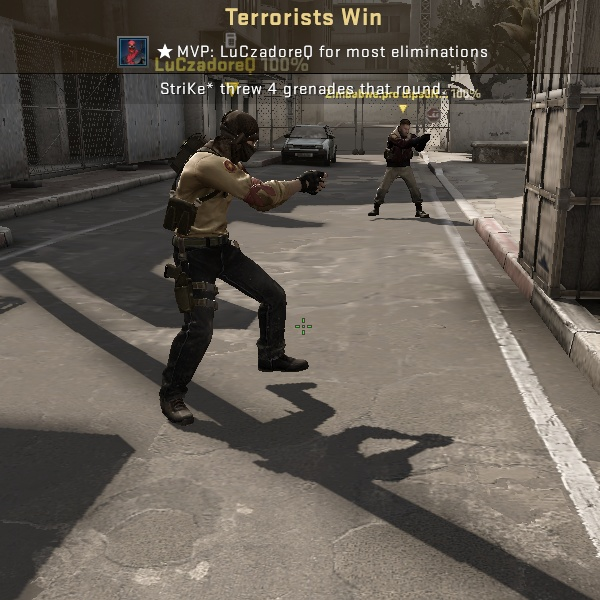t_body: (371, 118, 427, 221)
t_head: (399, 118, 412, 138)
